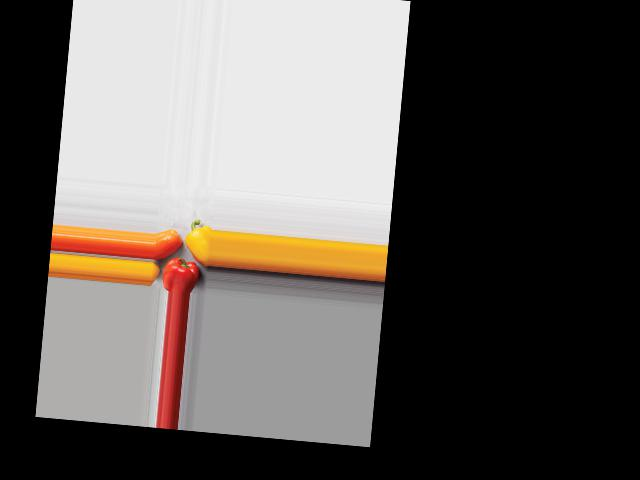bell_pepper: (161, 255, 202, 293)
